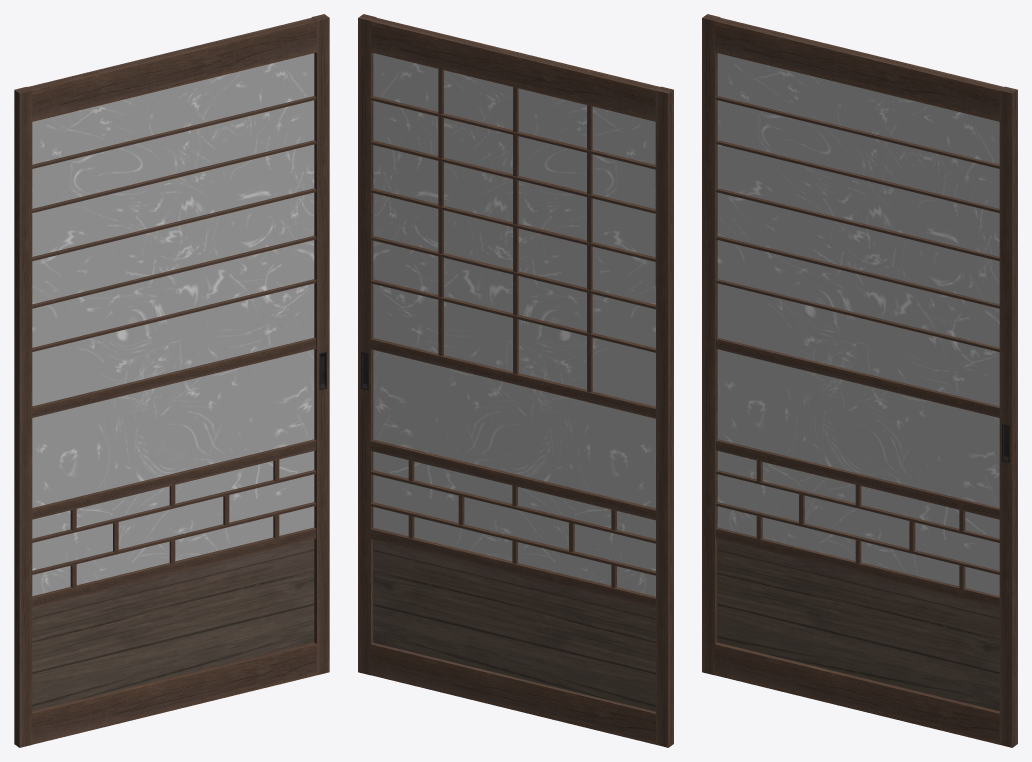
File: hikido03cl.fbx
3 renders of one model, left to right at view 1: azimuth 30°, elevation 25°; view 2: azimuth 150°, elevation 25°; view 3: azimuth 330°, elevation 25°, orthographic.
Visible parts, largest first — view 1: hikido03cl; view 2: hikido03cl; view 3: hikido03cl.
Part boxes in pixels (bbox=[...]): hikido03cl: bbox=[14, 14, 329, 747]; hikido03cl: bbox=[358, 14, 673, 747]; hikido03cl: bbox=[702, 14, 1017, 747].
Bounding box in the file's own units: 110 × 221 × 3.37.
